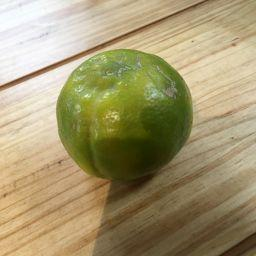Ripe: (57, 50, 194, 187)
